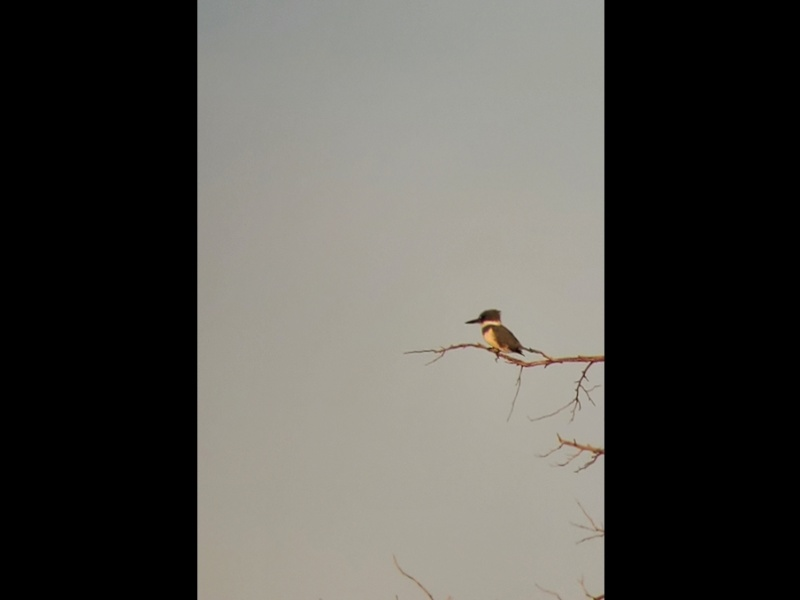kingfisher: (464, 307, 526, 362)
